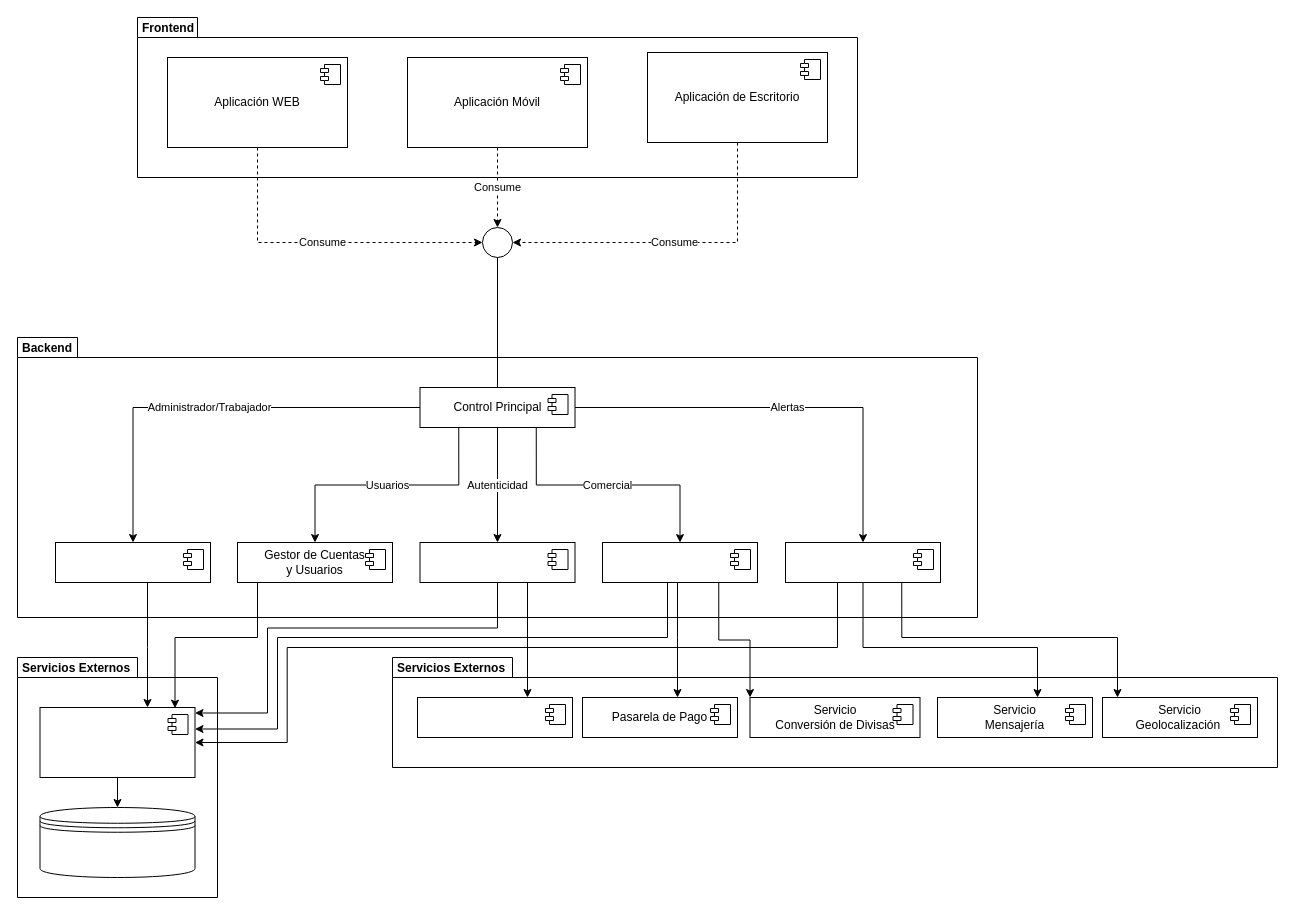
The diagram is 1295 pixels wide and 915 high, and some of its shapes have lost their labels. Here are the shapes that lost their labels. From the top down, the centre of each, then its label:
At point 132,562: "Gestor de Admin. y Reportes".
At point 497,562: "Gestor de Identidad".
At point 680,562: "Gestor Comercial".
At point 862,562: "Gestor de Alertas y Emergencias".
At point 494,717: "Servicio Correo".
At point 117,742: "Capa de acceso a Datos".
At point 117,842: "Base de Datos".
